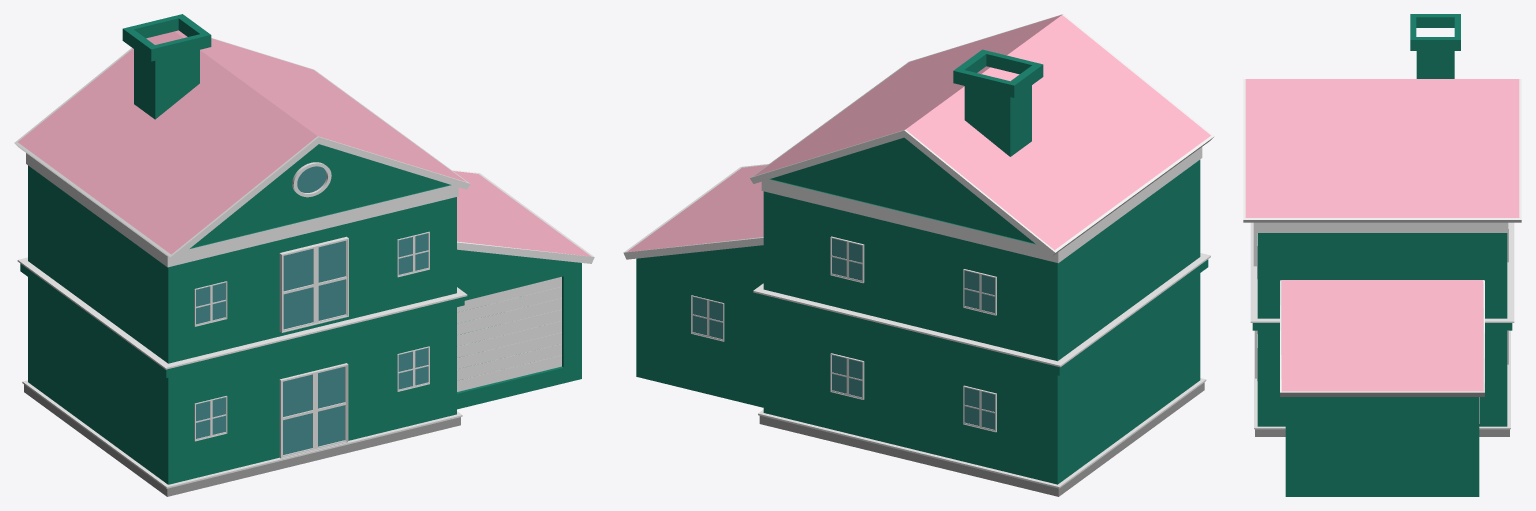
Rendered from Instacart_Project_house.gltf.
The picture shows the model from 3 angles, left to right: view 1: azimuth 30°, elevation 25°; view 2: azimuth 150°, elevation 25°; view 3: azimuth 270°, elevation 25°; orthographic projection. The views are drawn at different scales.
Visible parts, largest first — view 1: house-dark blue, house-Mat.5, house-white, Cube.17-white, Cube.16-dark blue, Chimney, Cube.16-Mat.5, door up-Glass, door main-Glass, house-Grey, door up-white, door main-white (+6 smaller); view 2: house-dark blue, house-Mat.5, Cube.16-dark blue, house-white, Chimney, Cube.16-Mat.5, house-Grey, Cube.16-white, window8-Glass, window6-Glass, window9-Glass, window7-Glass (+1 smaller); view 3: house-Mat.5, Cube.16-Mat.5, Cube.16-dark blue, house-dark blue, house-white, Chimney, Cube.16-white, house-Grey.
Boxes of the visible parts, x1,y1,x2,y2 form: house-dark blue: (20, 144, 464, 484); house-Mat.5: (18, 30, 466, 254); house-white: (14, 38, 470, 488); Cube.17-white: (457, 276, 561, 391); Cube.16-dark blue: (457, 249, 581, 409); Chimney: (122, 14, 211, 119); Cube.16-Mat.5: (453, 171, 590, 256); door up-Glass: (283, 241, 345, 329); door main-Glass: (283, 367, 344, 454); house-Grey: (24, 384, 460, 496); door up-white: (279, 236, 348, 332); door main-white: (279, 363, 348, 458); house-dark blue: (756, 137, 1208, 484); house-Mat.5: (753, 15, 1210, 249); Cube.16-dark blue: (636, 245, 763, 407); house-white: (750, 14, 1214, 488); Chimney: (953, 49, 1043, 156); Cube.16-Mat.5: (627, 165, 767, 251); house-Grey: (759, 382, 1204, 496); Cube.16-white: (623, 164, 768, 259); window8-Glass: (964, 387, 994, 429); window6-Glass: (964, 271, 994, 312); window9-Glass: (692, 297, 722, 339); window7-Glass: (832, 355, 862, 397); house-Mat.5: (1245, 79, 1519, 217); Cube.16-Mat.5: (1281, 280, 1483, 391); Cube.16-dark blue: (1285, 397, 1479, 496); house-dark blue: (1252, 233, 1512, 426); house-white: (1243, 79, 1521, 429); Chimney: (1410, 14, 1460, 78); Cube.16-white: (1280, 280, 1484, 396); house-Grey: (1255, 429, 1509, 436).
Bounding box in the file's own units: 213 × 168 × 129.
